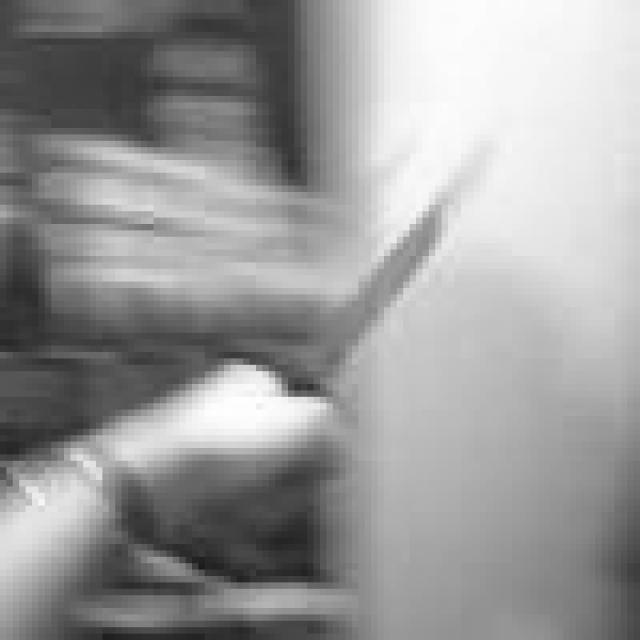knife: (278, 133, 493, 428)
